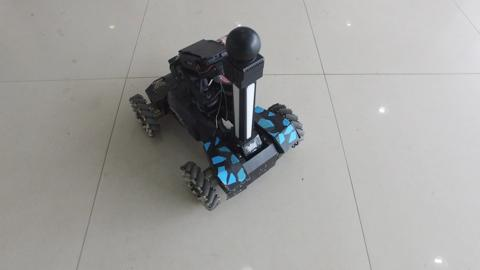chariot: (131, 40, 304, 213)
